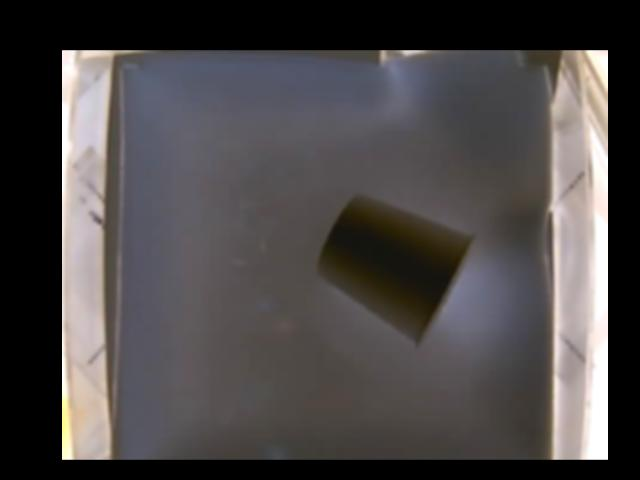Cup: (315, 194, 480, 351)
